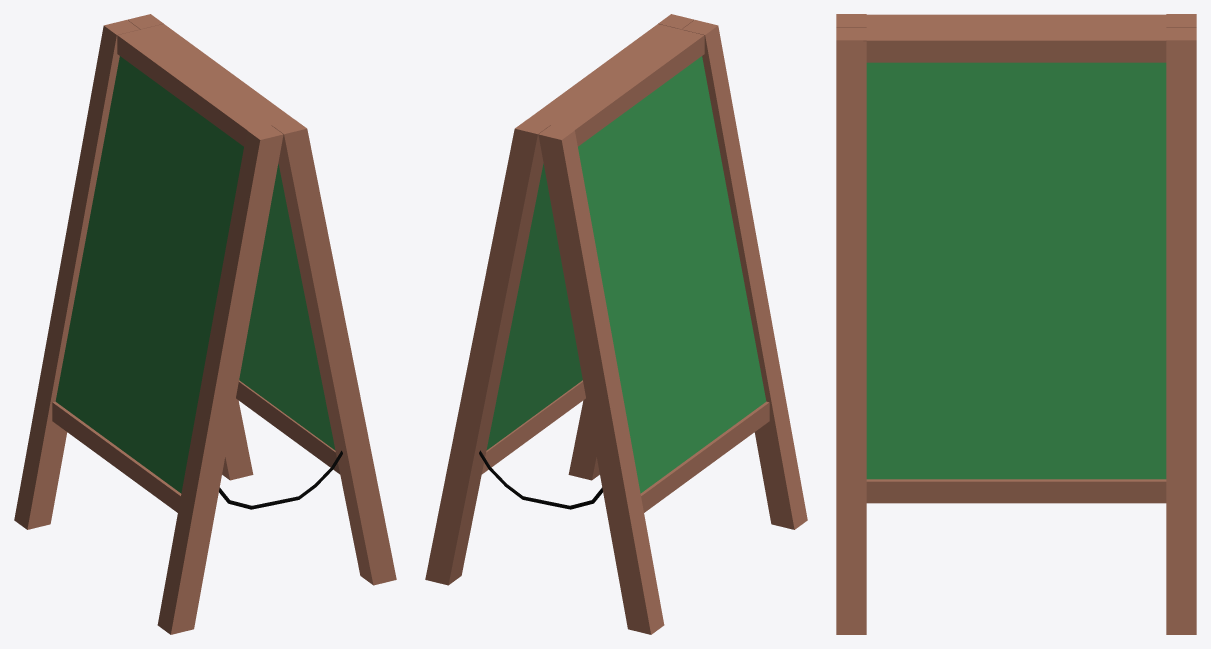
File: Pizarratiza.fbx
3 renders of one model, left to right at view 1: azimuth 30°, elevation 25°; view 2: azimuth 150°, elevation 25°; view 3: azimuth 270°, elevation 25°, orthographic. The views are drawn at different scales.
Parts seen in each view (by area): view 1: Plane.005; view 2: Plane.005; view 3: Plane.005.
Part boxes in pixels (x1=…): Plane.005: x1=14, y1=14, x2=396, y2=634; Plane.005: x1=425, y1=14, x2=807, y2=634; Plane.005: x1=836, y1=14, x2=1196, y2=634.
Bounding box in the file's own units: 50 × 100 × 60.
